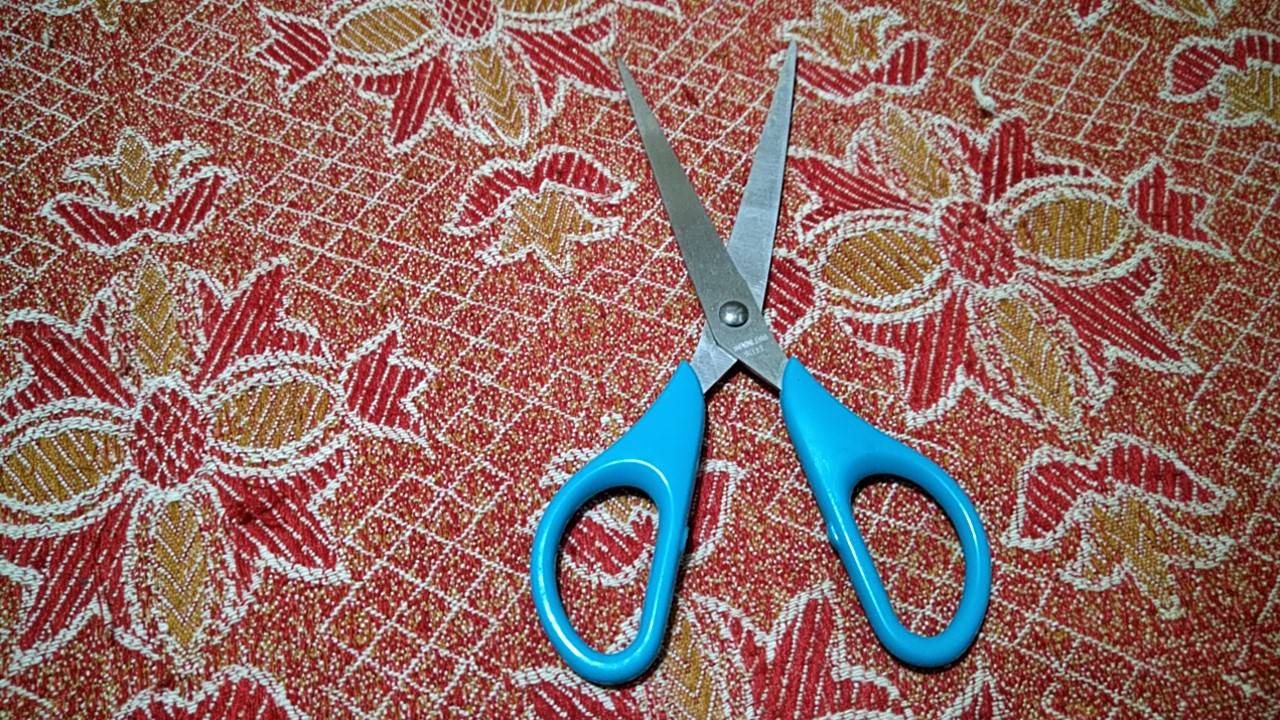scissor: (510, 30, 1015, 691)
